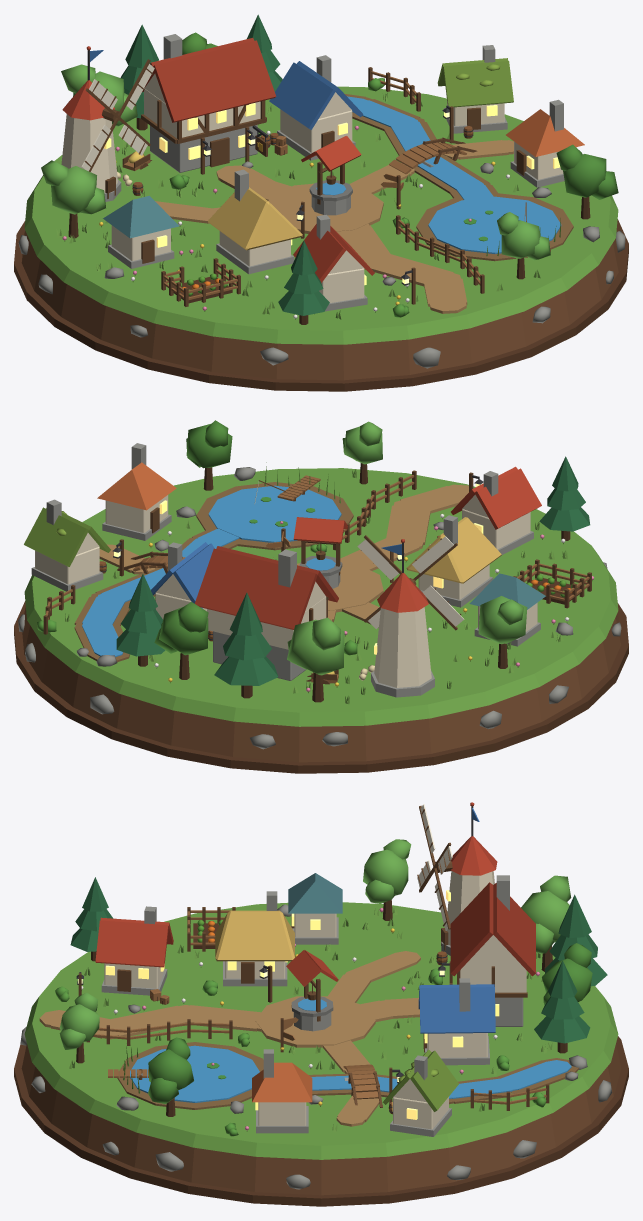
Rendered from fantasy-village-diorama.glb.
The picture shows the model from 3 angles, top to bottom: view 1: azimuth 30°, elevation 25°; view 2: azimuth 150°, elevation 25°; view 3: azimuth 270°, elevation 25°; orthographic projection.
Visible parts, largest first — view 1: base_grass, base_plinth, base_rim, tavern_roof, pond, cottage_01_roof, cottage_04_roof, path_square, cottage_03_roof, tree_04_canopy, windmill_tower, tree_03_canopy (+41 smaller); view 2: base_grass, base_plinth, base_rim, tavern_roof, pond, windmill_tower, pine_02_needles, tree_02_canopy, cottage_01_roof, cottage_02_roof, cottage_04_roof, pine_01_needles (+36 smaller); view 3: base_grass, base_plinth, base_rim, tavern_roof, cottage_01_roof, pond, cottage_03_roof, path_square, cottage_02_roof, pine_01_needles, tree_04_canopy, tree_02_canopy (+37 smaller).
Part boxes in pixels (x1=…): base_grass: x1=24, y1=86, x2=618, y2=344; base_plinth: x1=21, y1=224, x2=620, y2=380; base_rim: x1=14, y1=219, x2=628, y2=391; tavern_roof: x1=142, y1=38, x2=276, y2=122; pond: x1=428, y1=196, x2=561, y2=253; cottage_01_roof: x1=207, y1=187, x2=302, y2=250; cottage_04_roof: x1=437, y1=58, x2=513, y2=107; path_square: x1=268, y1=183, x2=383, y2=233; cottage_03_roof: x1=269, y1=61, x2=363, y2=129; tree_04_canopy: x1=41, y1=160, x2=105, y2=214; windmill_tower: x1=61, y1=114, x2=117, y2=192; tree_03_canopy: x1=556, y1=144, x2=618, y2=199; base_grass: x1=24, y1=468, x2=618, y2=726; base_plinth: x1=22, y1=606, x2=621, y2=762; base_rim: x1=14, y1=601, x2=628, y2=773; tavern_roof: x1=195, y1=546, x2=338, y2=629; pond: x1=208, y1=485, x2=341, y2=542; windmill_tower: x1=374, y1=607, x2=431, y2=687; pine_02_needles: x1=214, y1=592, x2=278, y2=685; tree_02_canopy: x1=287, y1=617, x2=344, y2=675; cottage_01_roof: x1=406, y1=517, x2=501, y2=583; cottage_02_roof: x1=451, y1=466, x2=541, y2=529; cottage_04_roof: x1=24, y1=507, x2=110, y2=566; pine_01_needles: x1=116, y1=574, x2=165, y2=656; base_grass: x1=24, y1=902, x2=618, y2=1159; base_plinth: x1=21, y1=1044, x2=621, y2=1195; base_rim: x1=14, y1=1036, x2=628, y2=1206; tavern_roof: x1=450, y1=882, x2=535, y2=976; cottage_01_roof: x1=215, y1=910, x2=294, y2=961; pond: x1=130, y1=1045, x2=259, y2=1102; cottage_03_roof: x1=418, y1=984, x2=495, y2=1033; path_square: x1=255, y1=996, x2=375, y2=1047; cottage_02_roof: x1=95, y1=917, x2=173, y2=967; pine_01_needles: x1=534, y1=960, x2=590, y2=1043; tree_04_canopy: x1=363, y1=839, x2=411, y2=903; tree_02_canopy: x1=521, y1=875, x2=571, y2=953.
Bounding box in the file's own units: 2.04 × 0.725 × 2.04.
